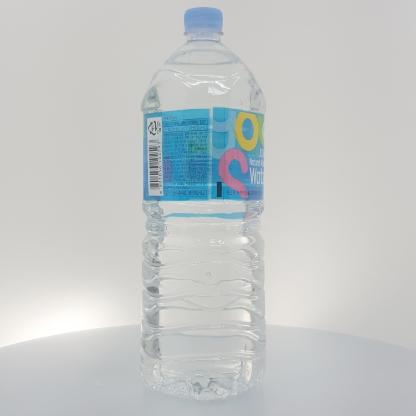--------1-5L: (140, 7, 266, 401)
